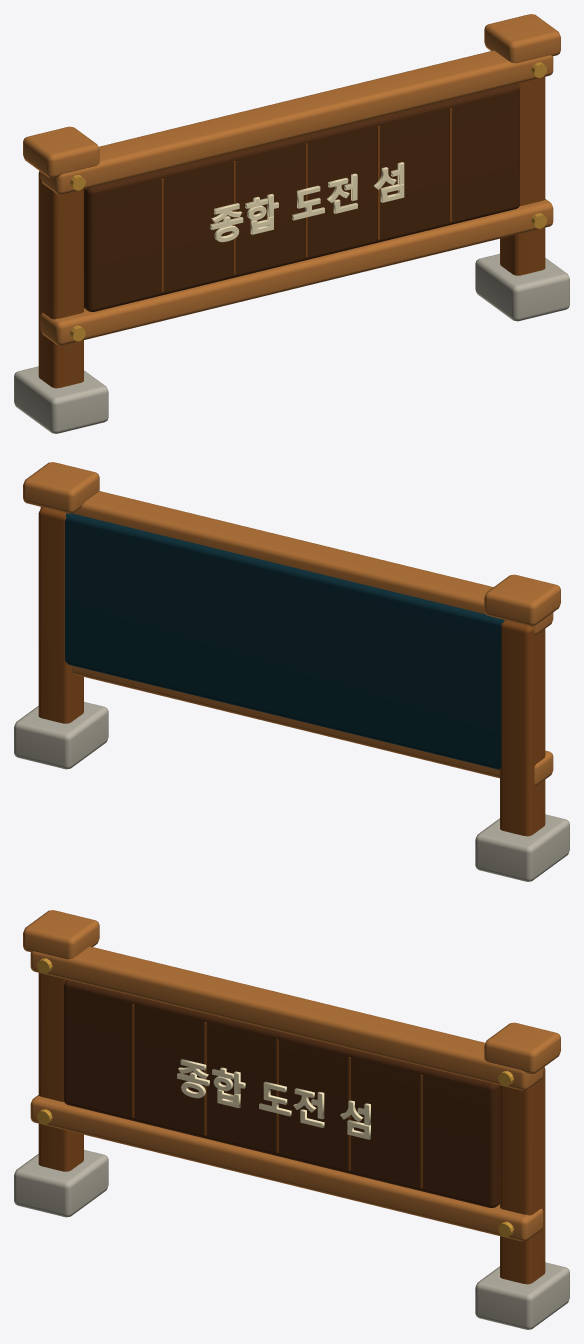
Rendered from OBJ43_sign_challenge.glb.
The picture shows the model from 3 angles, top to bottom: view 1: azimuth 30°, elevation 25°; view 2: azimuth 150°, elevation 25°; view 3: azimuth 330°, elevation 25°; orthographic projection.
Visible parts, largest first — view 1: Wood sign face, Horizontal oak rail.001, Horizontal oak rail, Timber post, Timber post.001, Board foot.001, Board foot, Island title, Post cap, Post cap.001; view 2: Slate panel, Horizontal oak rail.001, Timber post, Timber post.001, Board foot.001, Board foot, Horizontal oak rail, Post cap, Post cap.001; view 3: Wood sign face, Horizontal oak rail.001, Horizontal oak rail, Timber post.001, Timber post, Board foot, Board foot.001, Island title, Post cap.001, Post cap.
Boxes of the visible parts, x1,y1,x2,y2 form: Wood sign face: (84, 83, 519, 311); Horizontal oak rail.001: (40, 50, 553, 194); Horizontal oak rail: (40, 199, 553, 345); Timber post: (38, 171, 83, 388); Timber post.001: (500, 77, 545, 275); Board foot.001: (475, 254, 569, 321); Board foot: (14, 366, 108, 433); Island title: (210, 162, 404, 242); Post cap: (23, 126, 99, 177); Post cap.001: (484, 14, 560, 63); Slate panel: (65, 513, 505, 769); Horizontal oak rail.001: (40, 491, 553, 634); Timber post: (500, 620, 545, 836); Timber post.001: (38, 507, 83, 723); Board foot.001: (14, 702, 108, 769); Board foot: (475, 814, 569, 881); Horizontal oak rail: (72, 665, 553, 785); Post cap: (484, 574, 560, 625); Post cap.001: (23, 462, 99, 513); Wood sign face: (64, 979, 499, 1207); Horizontal oak rail.001: (30, 946, 543, 1090); Horizontal oak rail: (30, 1095, 543, 1241); Timber post.001: (500, 1067, 545, 1284); Timber post: (38, 973, 83, 1171); Board foot: (14, 1150, 108, 1217); Board foot.001: (475, 1262, 569, 1329); Island title: (177, 1059, 370, 1139); Post cap.001: (484, 1022, 560, 1073); Post cap: (23, 910, 99, 959).
Bounding box in the file's own units: 3.6 × 1.82 × 0.5.
